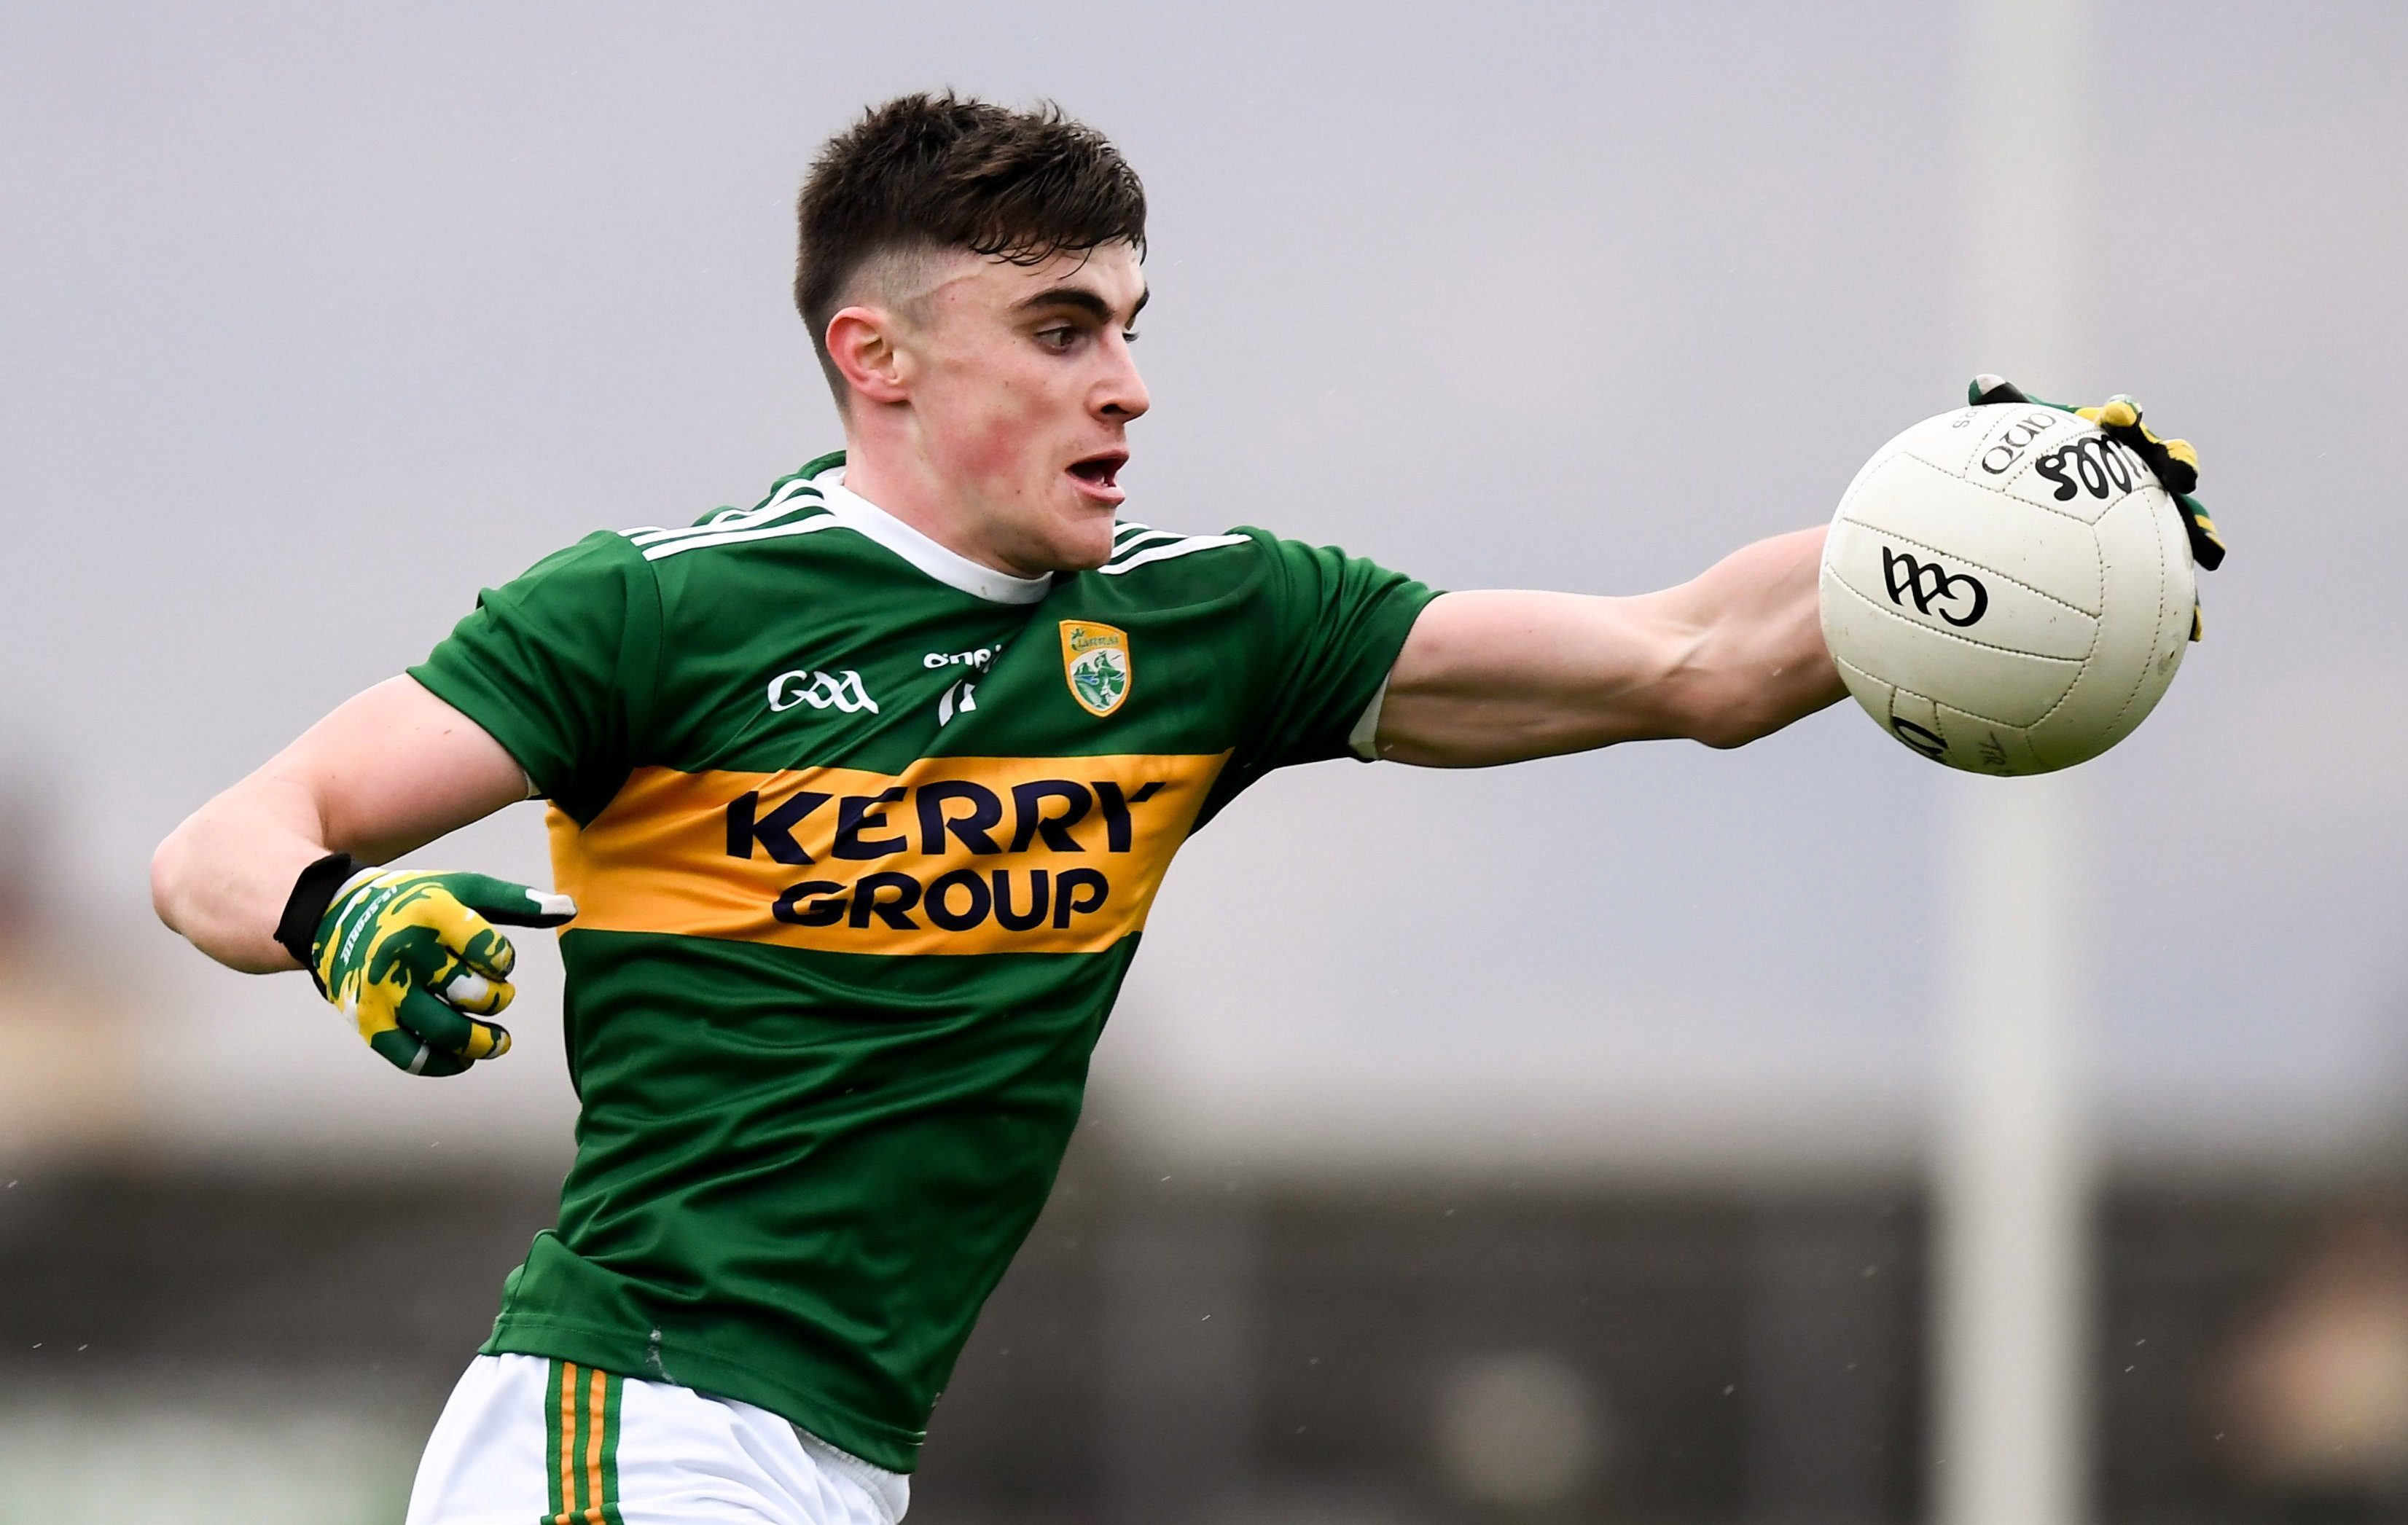ball: (1824, 381, 2185, 778)
player: (512, 67, 1333, 1510)
